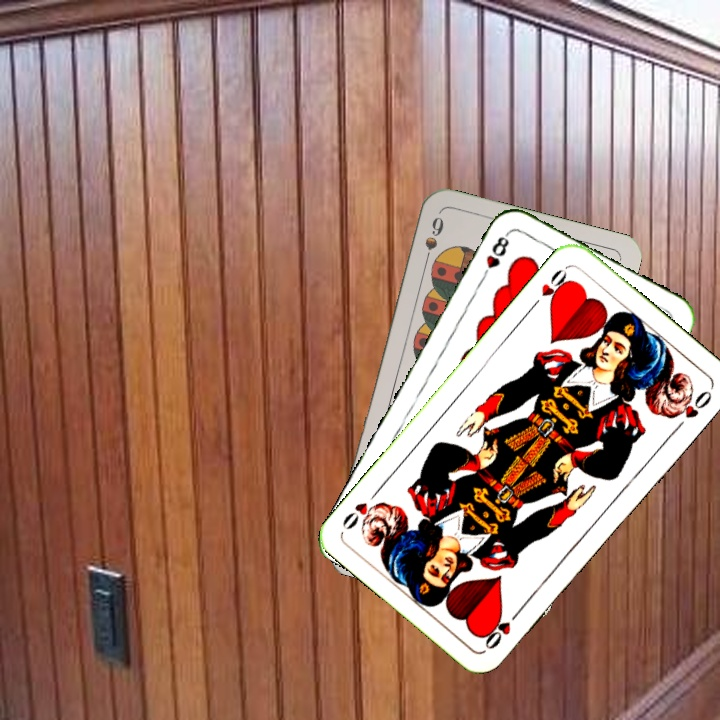H8: (477, 229, 512, 283)
HO: (527, 263, 574, 312), (480, 604, 524, 652)
S9: (419, 212, 447, 269)
